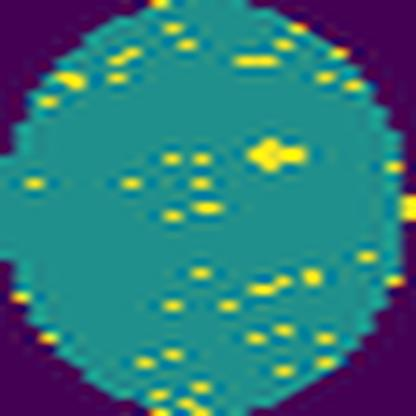Loc: (250, 138, 306, 172)
